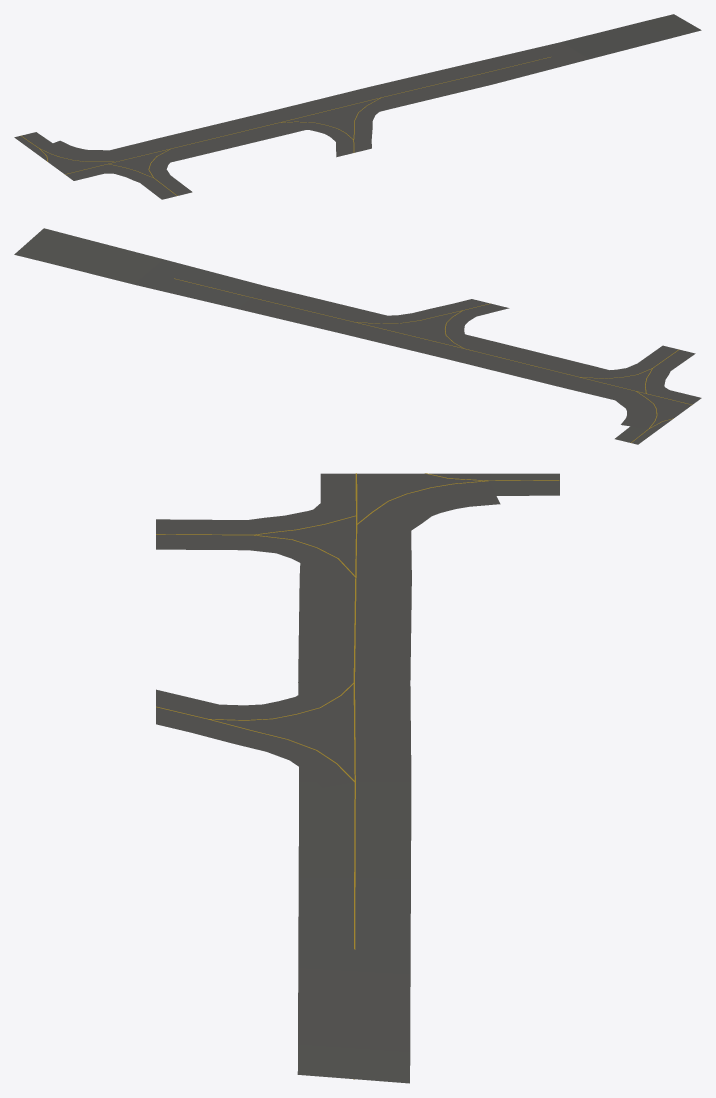
Rendered from sbgr_taxi_secao.glb.
The picture shows the model from 3 angles, top to bottom: view 1: azimuth 30°, elevation 25°; view 2: azimuth 150°, elevation 25°; view 3: azimuth 270°, elevation 25°; orthographic projection. The views are drawn at different scales.
Parts seen in each view (by area): view 1: sbgr_taxi_secao; view 2: sbgr_taxi_secao; view 3: sbgr_taxi_secao.
Part boxes in pixels (box(x1,y1,x2,y2)): sbgr_taxi_secao: box(14, 14, 701, 199); sbgr_taxi_secao: box(14, 228, 701, 444); sbgr_taxi_secao: box(156, 473, 559, 1083).
Bounding box in the file's own units: 320 × 2.38 × 90.01.
